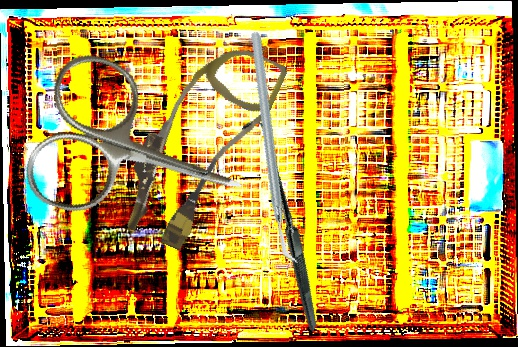Cannula: (109, 26, 290, 262)
Chopper: (192, 30, 357, 268)
Hook Surgical: (175, 116, 386, 333)
Iris Scissors: (16, 45, 268, 263)
